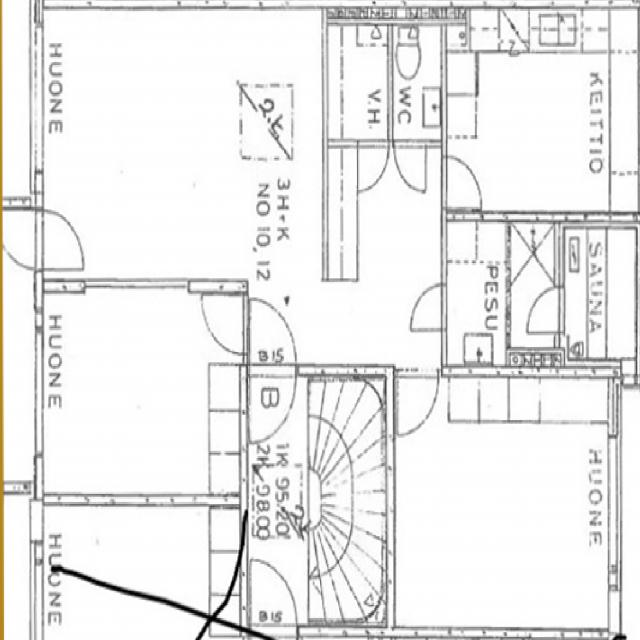door: (250, 299, 296, 375), (250, 364, 296, 440), (35, 211, 83, 268), (397, 370, 438, 436), (202, 294, 247, 354), (370, 168, 412, 228), (0, 211, 42, 268), (442, 158, 482, 207), (394, 140, 426, 192), (528, 287, 564, 332), (410, 284, 446, 329)
